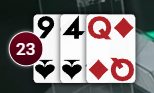4: (58, 14, 86, 43)
9: (33, 13, 59, 43)
q: (85, 14, 114, 44)
